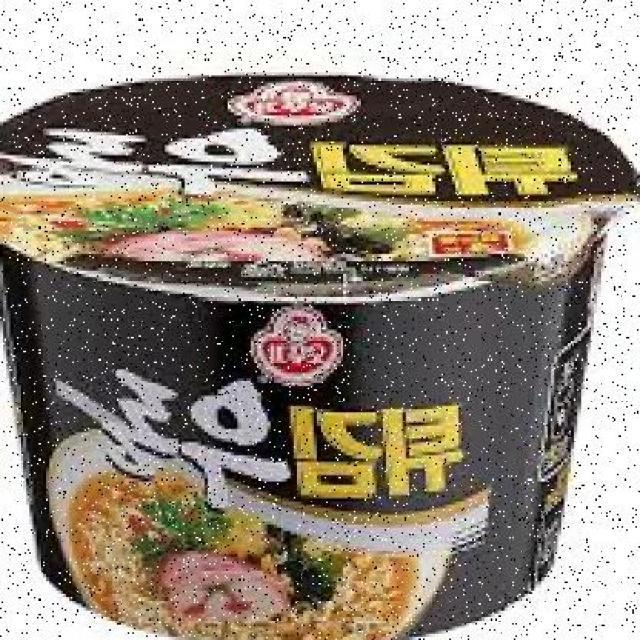Miscellaneous: (0, 88, 611, 630)
